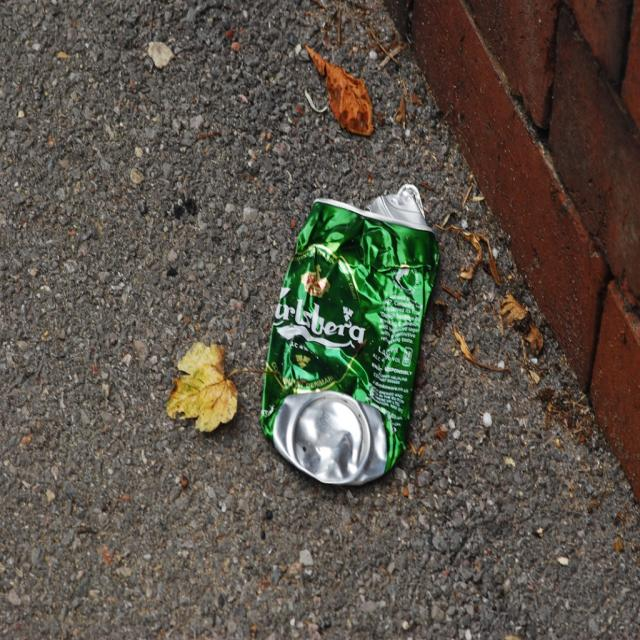carlsberg: (265, 245, 368, 403)
